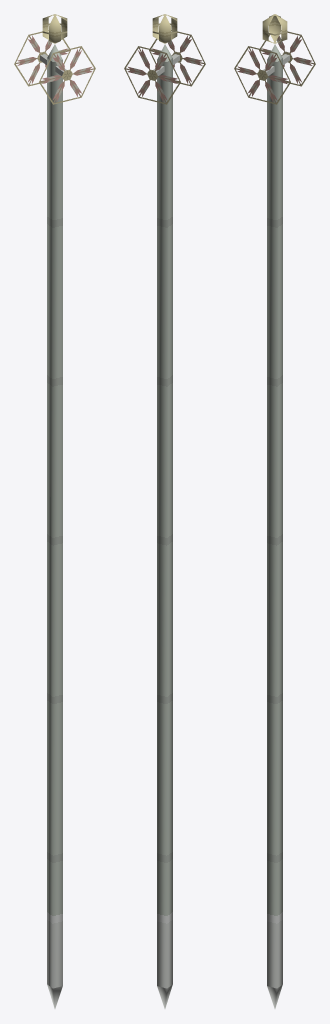
The model's file is 0137_Carp_Streamer.glb.
The picture shows the model from 3 angles, left to right: view 1: azimuth 30°, elevation 25°; view 2: azimuth 150°, elevation 25°; view 3: azimuth 330°, elevation 25°; orthographic projection.
Visible parts, largest first — view 1: part_0, part_1; view 2: part_0, part_1; view 3: part_0, part_1.
Part boxes in pixels (x1,y1,x2,y2): part_0: (40,14,67,1008); part_1: (14,30,95,104); part_0: (152,14,179,1008); part_1: (124,30,205,104); part_0: (262,14,289,1008); part_1: (234,30,315,104).
Bounding box in the file's own units: 0.8165 × 13.61 × 0.6124.
2 materials, 2 textured.
